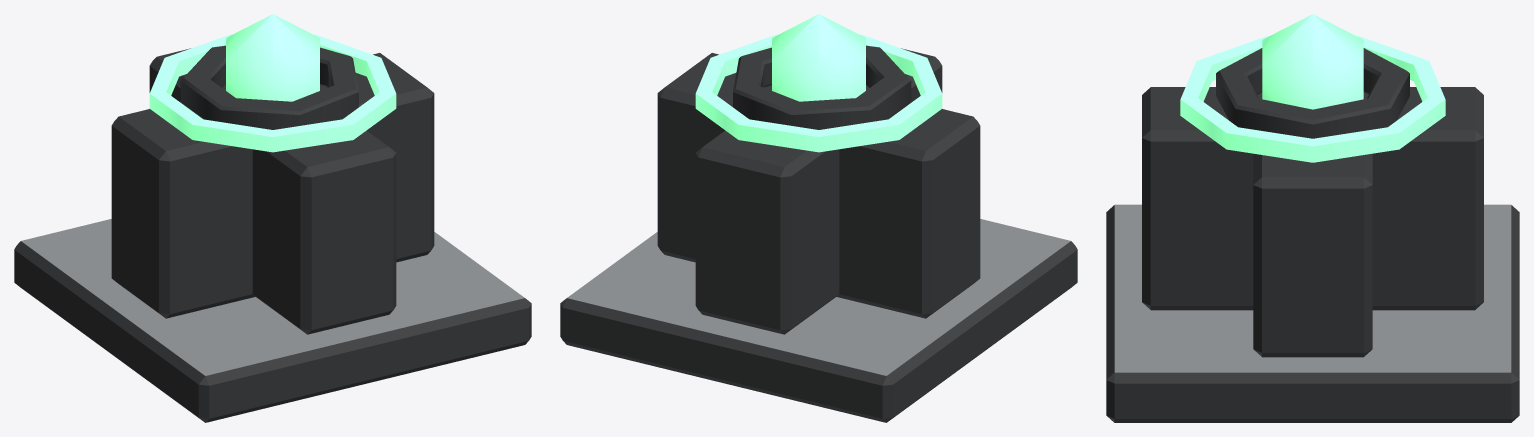
Rendered from R4X_RepairPulse_LOD1.fbx.
3 views of the same model, side by side, from view 1: azimuth 30°, elevation 25°; view 2: azimuth 150°, elevation 25°; view 3: azimuth 270°, elevation 25° (orthographic). The views are drawn at different scales.
Parts seen in each view (by area): view 1: R4X_RepairPulse_LOD1; view 2: R4X_RepairPulse_LOD1; view 3: R4X_RepairPulse_LOD1.
Boxes of the visible parts, x1,y1,x2,y2 form: R4X_RepairPulse_LOD1: (14, 14, 531, 422); R4X_RepairPulse_LOD1: (560, 14, 1077, 422); R4X_RepairPulse_LOD1: (1106, 14, 1519, 422).
Bounding box in the file's own units: 0.52 × 0.4513 × 0.52.
